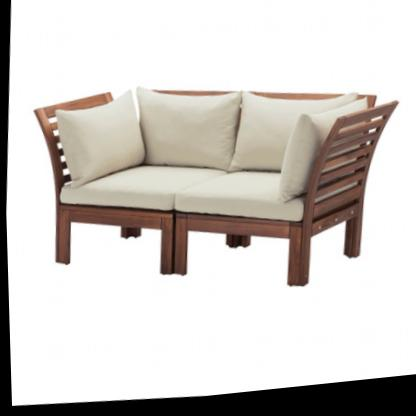Sofa: (16, 57, 407, 322)
